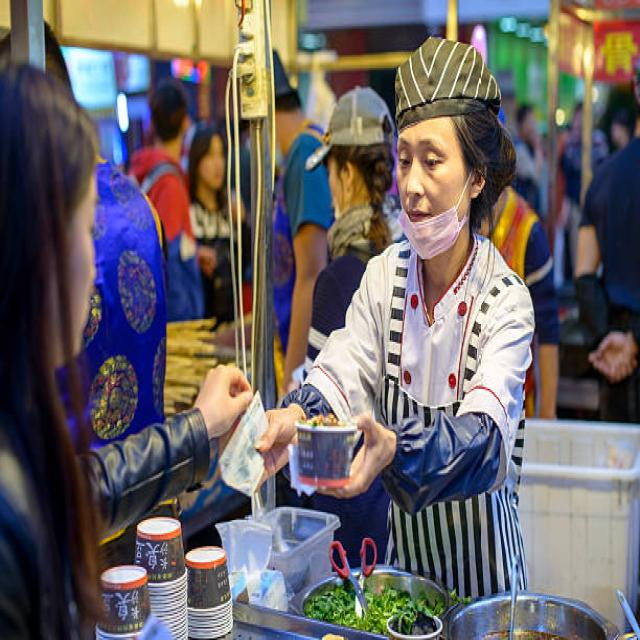Emperan: (31, 180, 635, 640)
